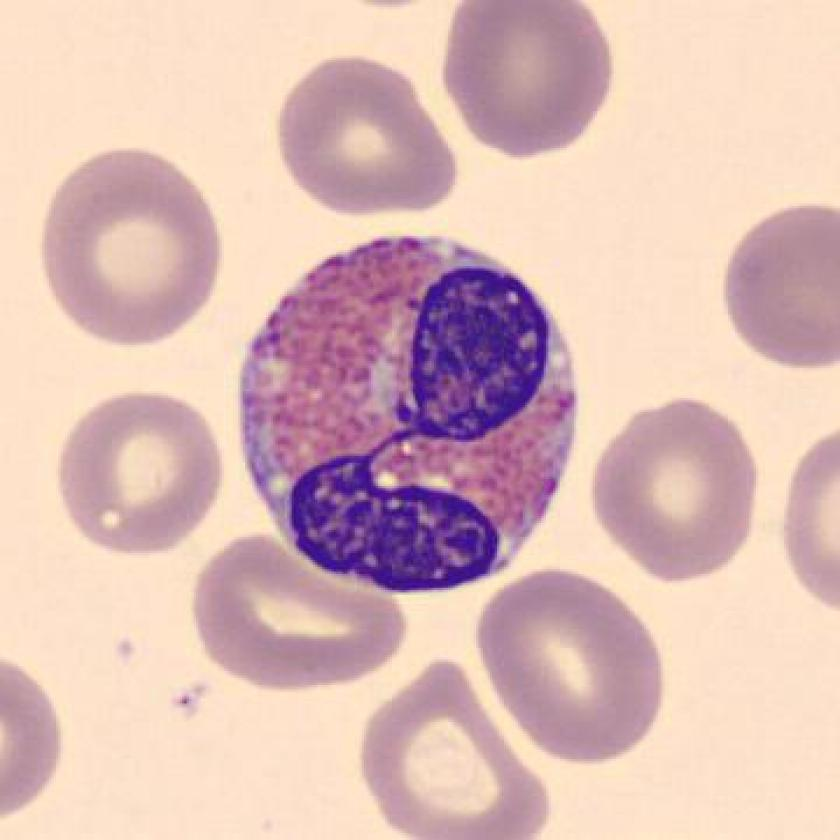eosinophil: (228, 219, 592, 601)
